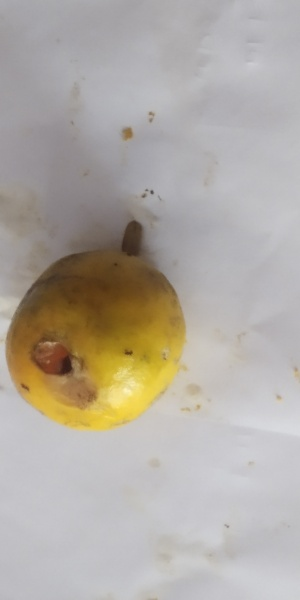BAD: (6, 250, 189, 435)
